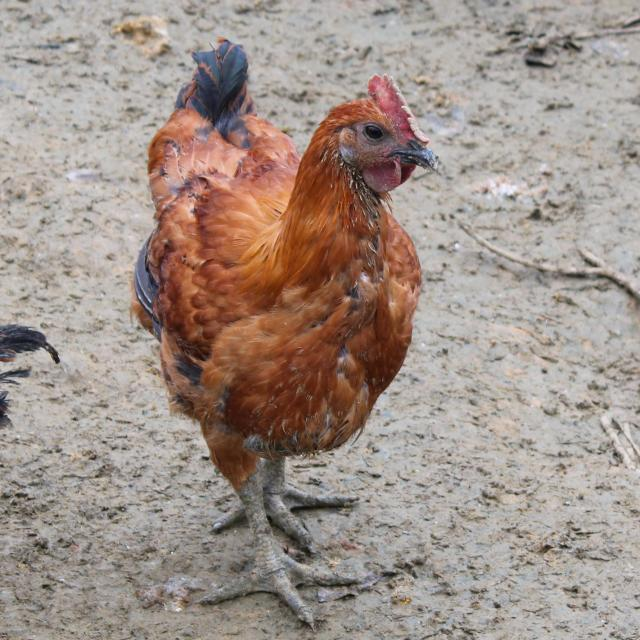hen: (130, 40, 437, 625)
